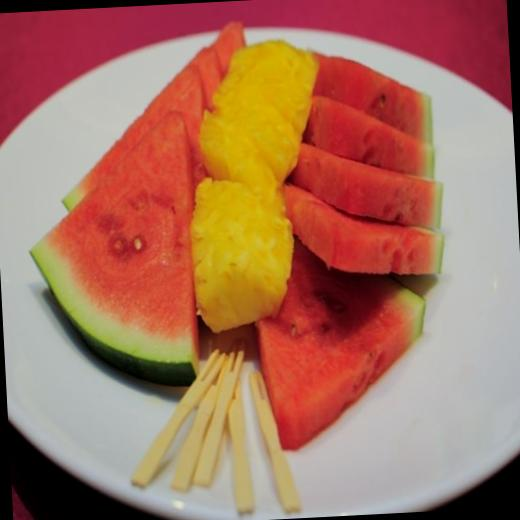Cherry: (17, 11, 460, 463)
